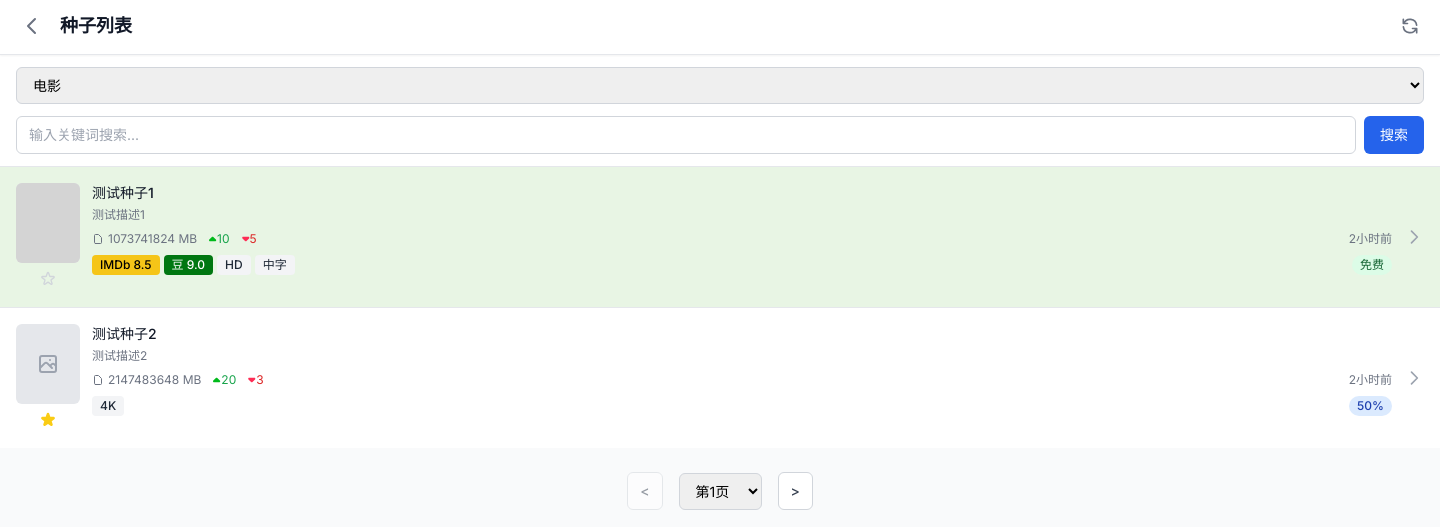
TorrentListView › Search Functionality › should clear keyword when clear button is clicked
Type "要清除的关键词" into the field with placeholder "输入关键词搜索...".
click(686, 135); type("要清除的关键词")  # box x1=16 y1=116 x2=1356 y2=154
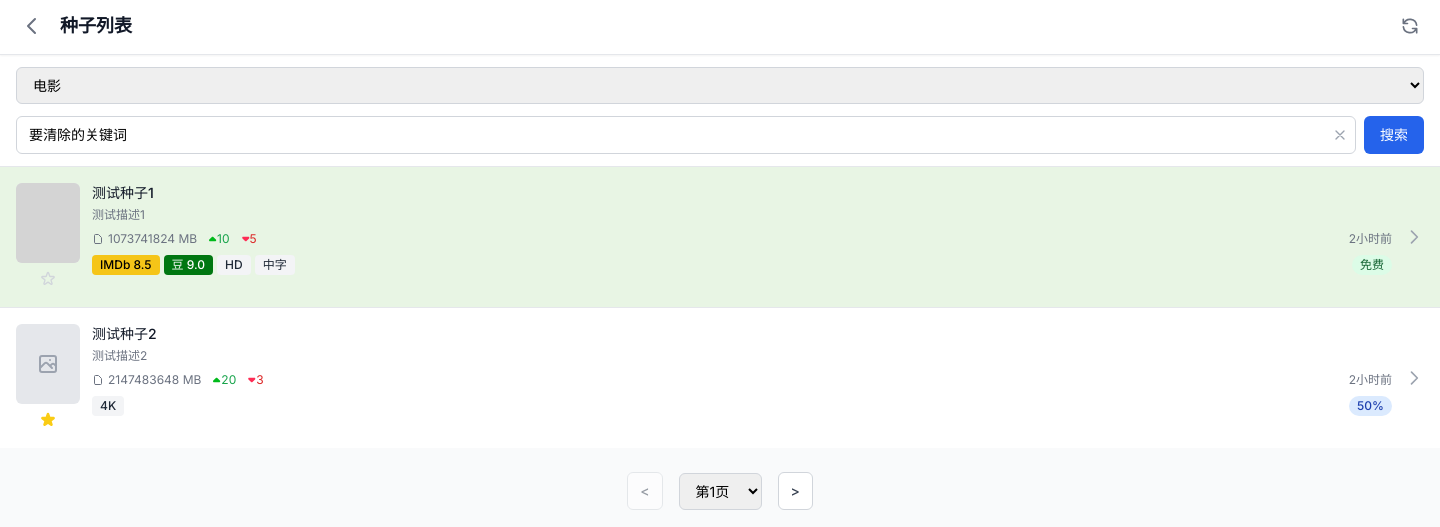
Expected: the 3rd button is shown, x1=1332 y1=127 x2=1348 y2=143
